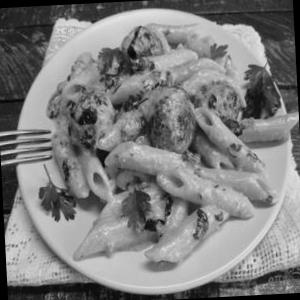pasta: (12, 18, 290, 276)
